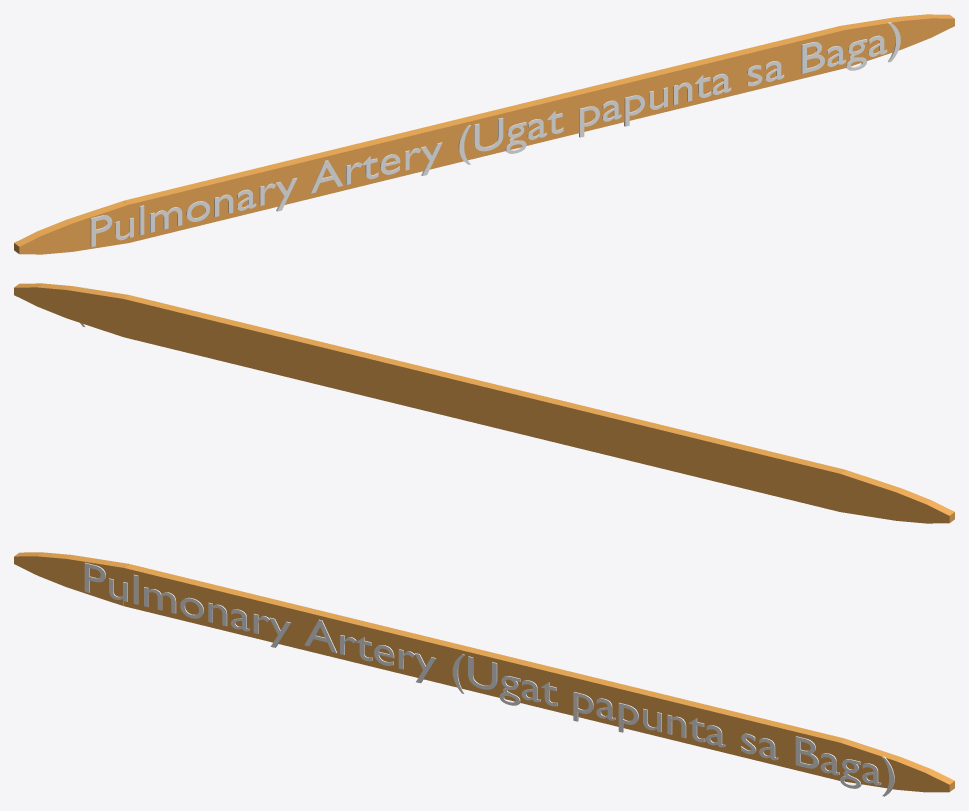
Rendered from txtPulmonaryArtery.fbx.
The picture shows the model from 3 angles, top to bottom: view 1: azimuth 30°, elevation 25°; view 2: azimuth 150°, elevation 25°; view 3: azimuth 330°, elevation 25°; orthographic projection.
Parts seen in each view (by area): view 1: TagContainer.110, Text.112; view 2: TagContainer.110; view 3: TagContainer.110, Text.112.
Boxes of the visible parts, box(x1,y1,x2,y2) form: TagContainer.110: box(14, 14, 954, 254); Text.112: box(90, 22, 900, 247); TagContainer.110: box(14, 283, 954, 523); TagContainer.110: box(14, 552, 954, 792); Text.112: box(84, 562, 894, 796).
Bounding box in the file's own units: 1055 × 45.81 × 11.84.
